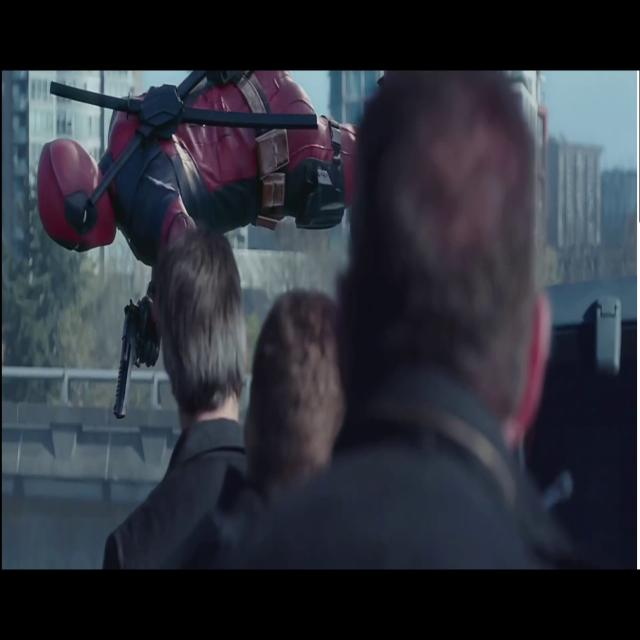weapons: (94, 289, 163, 430)
